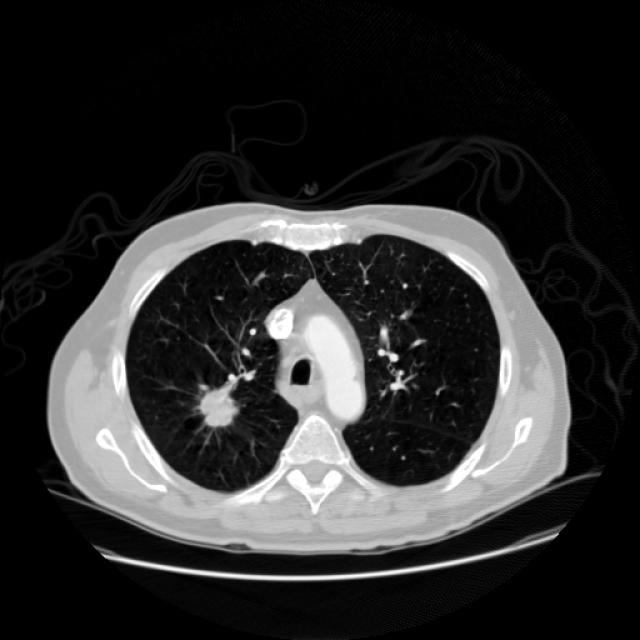nodule: (174, 365, 256, 447)
